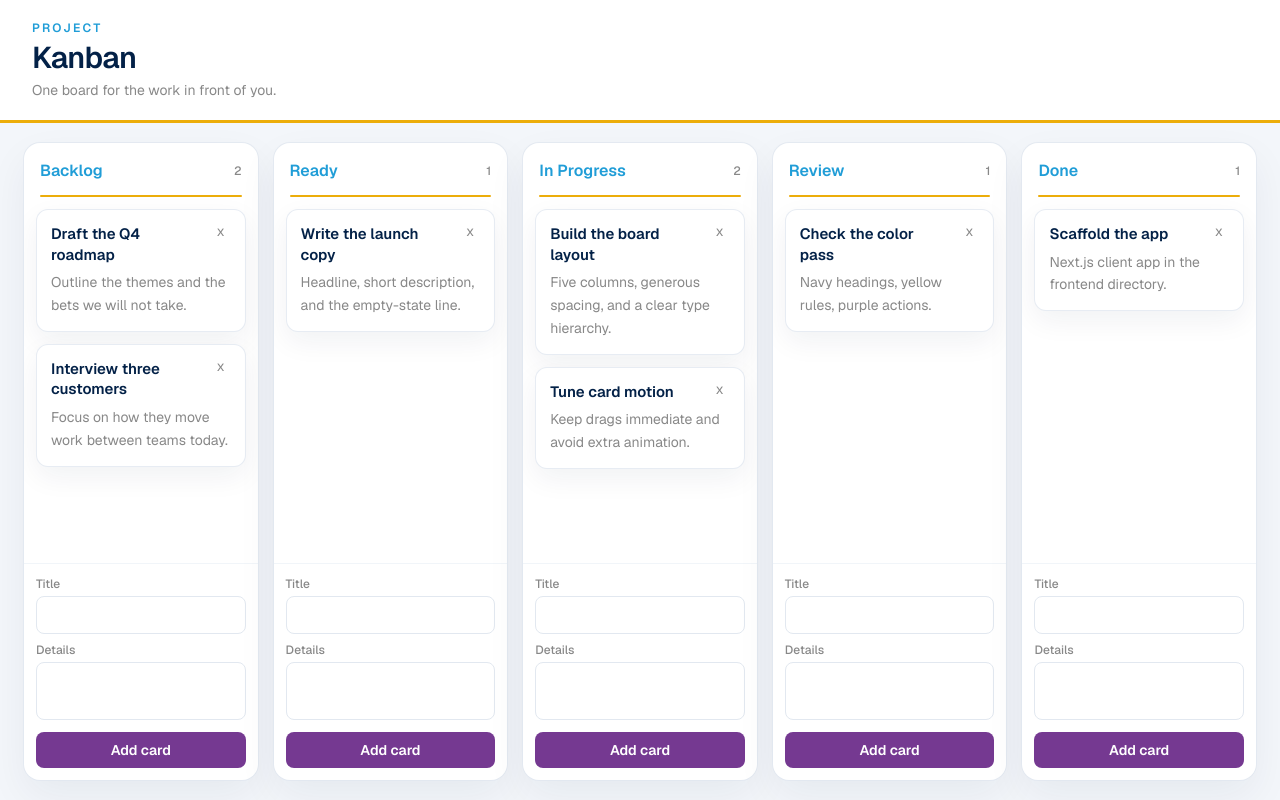
Test case: Board › adds a card to the column
Type "New task" into the 1st field labelled "Title" at (141, 615), box [36,596,246,634]
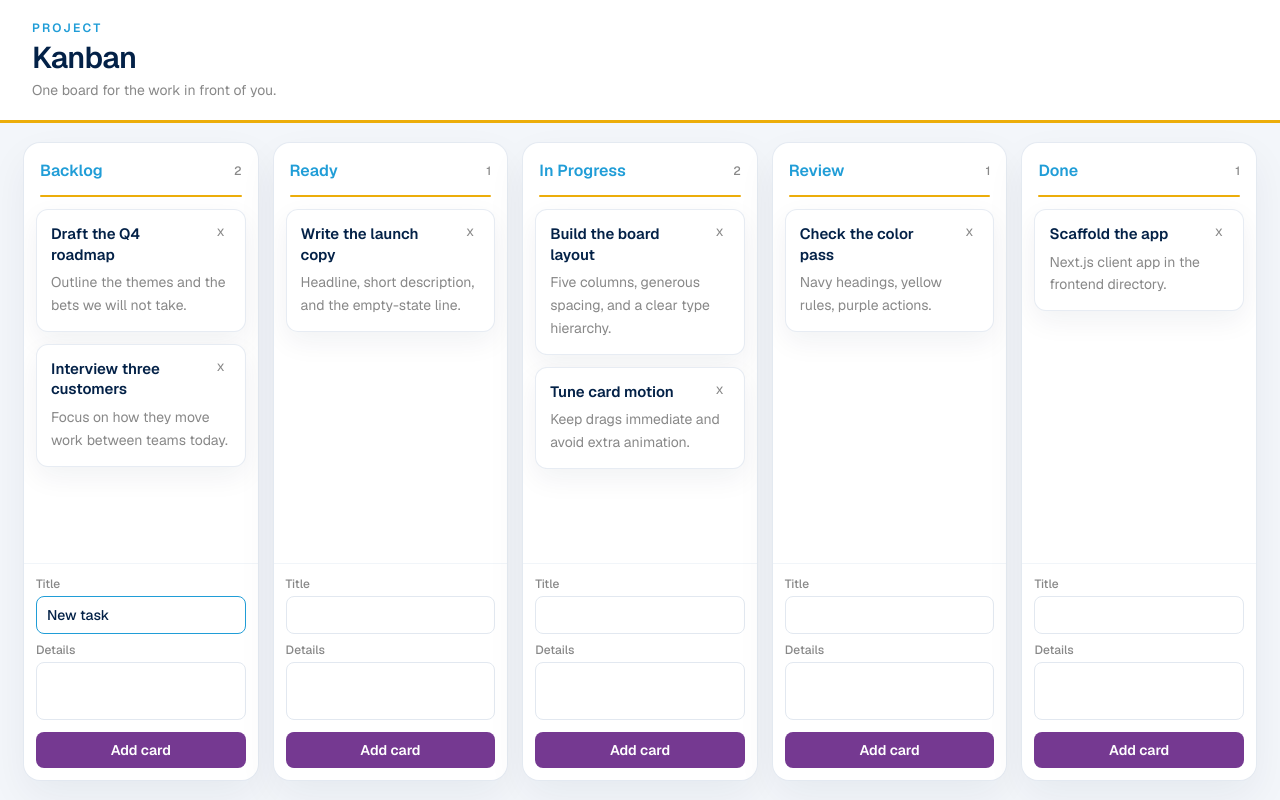
Type "Some notes" into the 1st text box labelled "Details" at (141, 691), box [36,662,246,720]
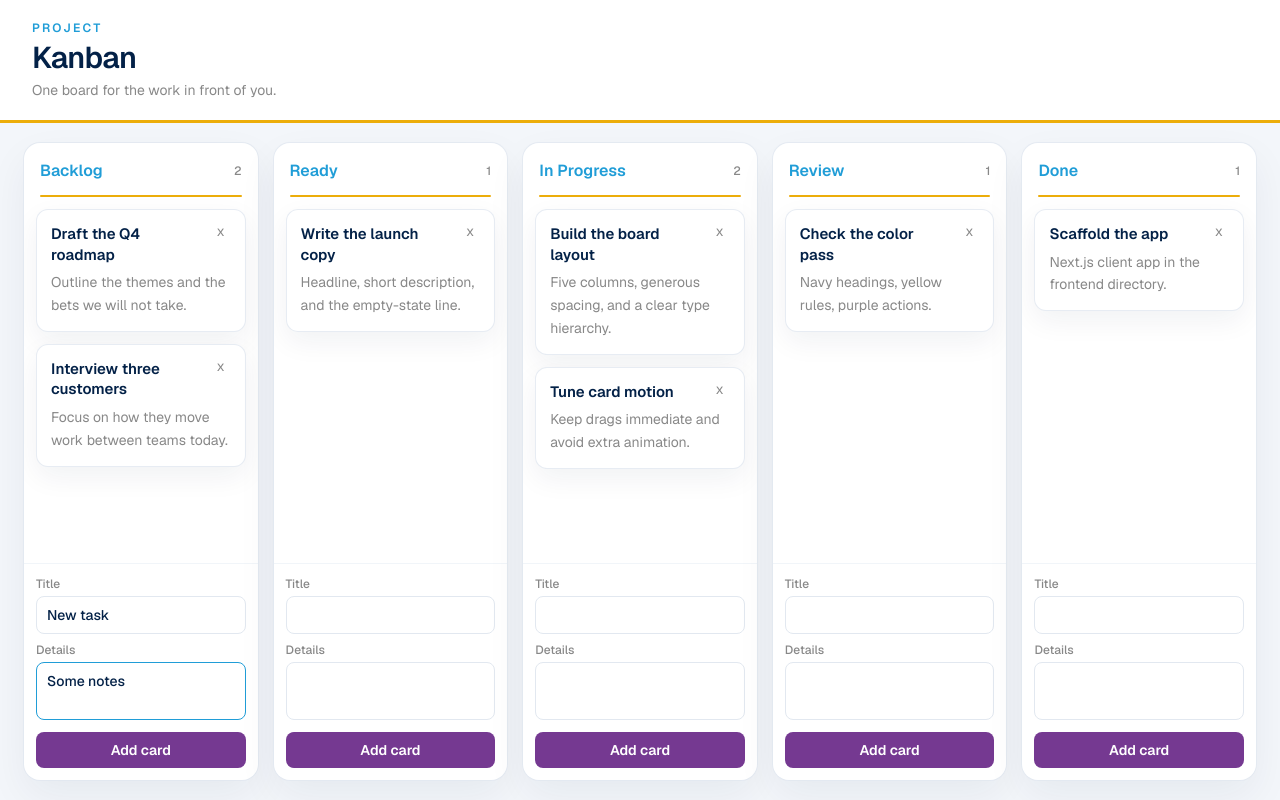
Click the 1st button "Add card" at (141, 750), box [36,732,246,768]
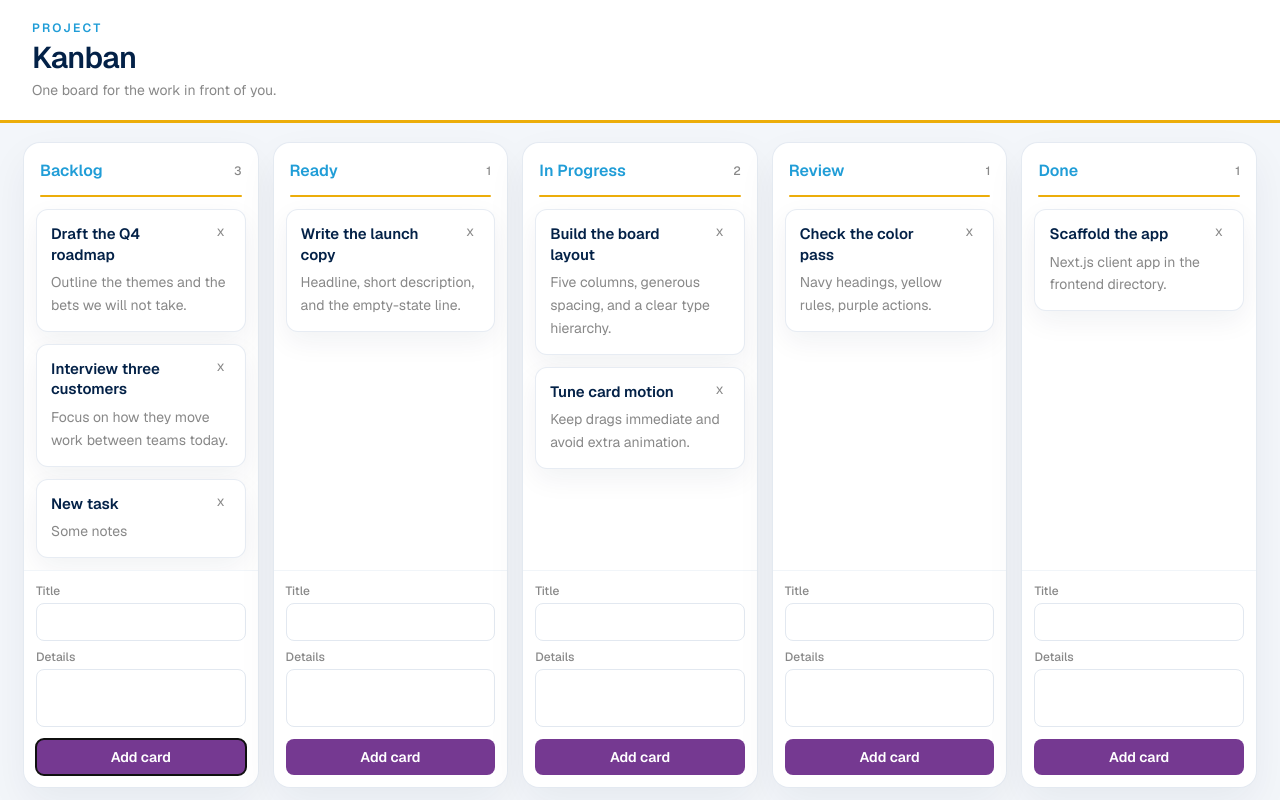
Result: the heading "New task" is shown at [51,494,119,514]
Result: the text "Some notes" is shown at [51,522,127,540]
